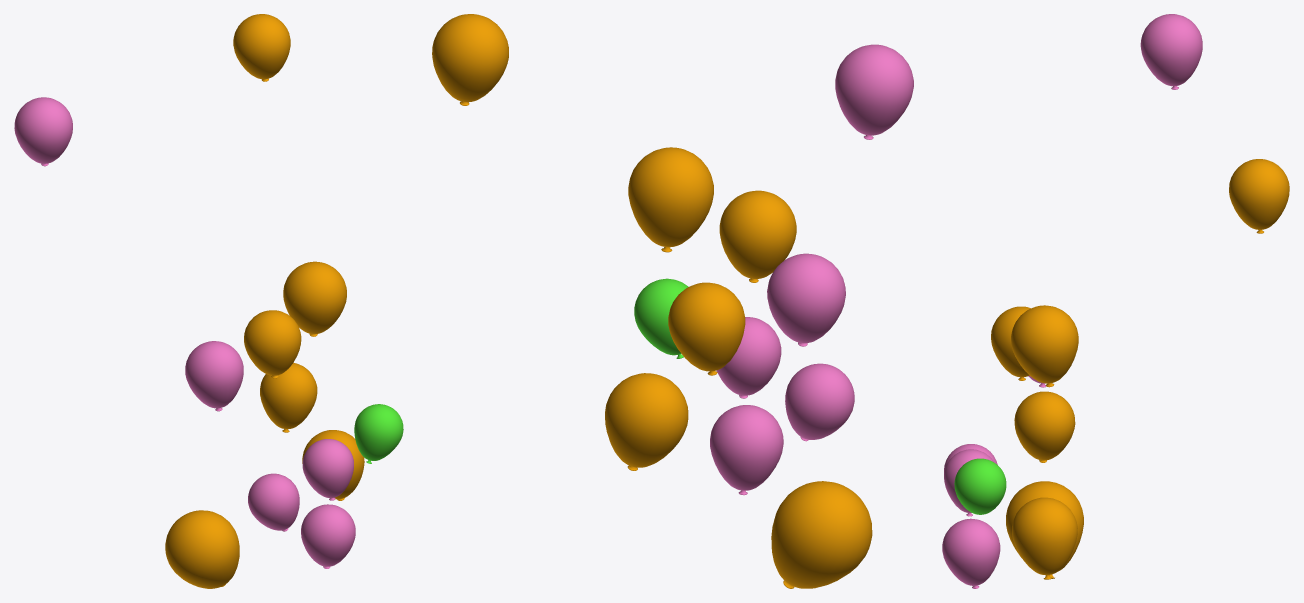
File: balloons.glb
The picture shows the model from 3 angles, left to right: view 1: azimuth 30°, elevation 25°; view 2: azimuth 150°, elevation 25°; view 3: azimuth 270°, elevation 25°; orthographic projection. The views are drawn at different scales.
Visible parts, largest first — view 1: Sphere.011; view 2: Sphere.011; view 3: Sphere.011.
Boxes of the visible parts, box(x1,y1,x2,y2) form: Sphere.011: box(14, 14, 403, 588); Sphere.011: box(432, 14, 913, 588); Sphere.011: box(942, 14, 1289, 588).
Bounding box in the file's own units: 8.34 × 12.17 × 7.65.
